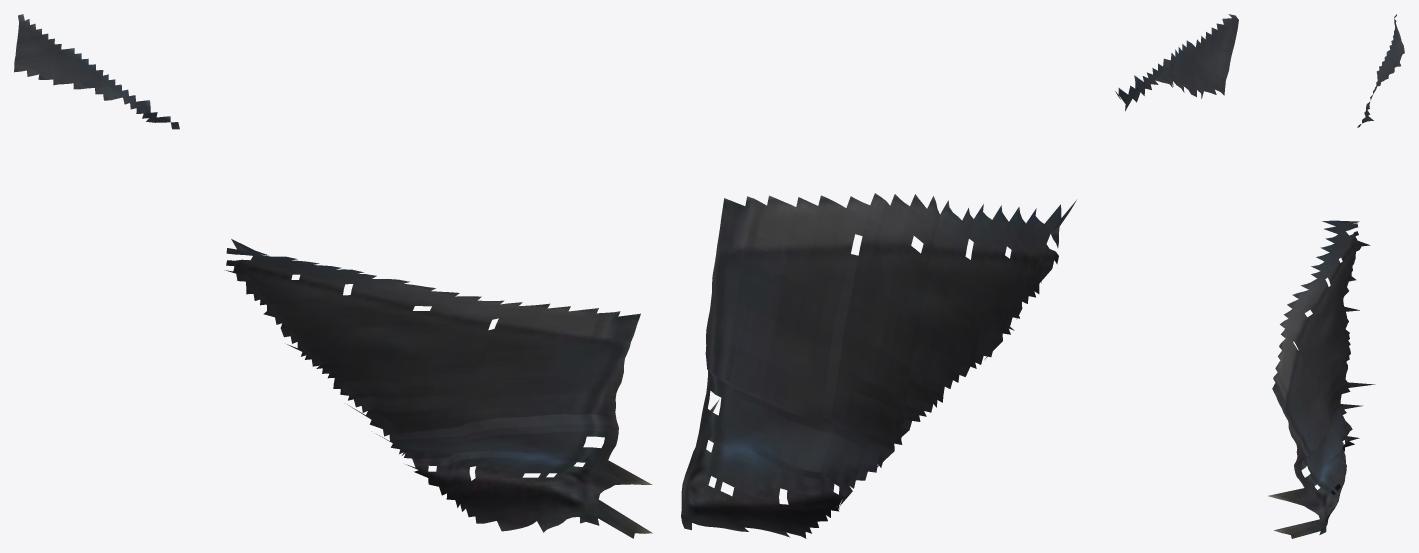
The model's file is observed-surface.glb.
The picture shows the model from 3 angles, left to right: view 1: azimuth 30°, elevation 25°; view 2: azimuth 150°, elevation 25°; view 3: azimuth 270°, elevation 25°; orthographic projection. The views are drawn at different scales.
Visible parts, largest first — view 1: geometry_0; view 2: geometry_0; view 3: geometry_0.
Boxes of the visible parts, x1=… form: geometry_0: x1=14, y1=14, x2=652, y2=538; geometry_0: x1=681, y1=14, x2=1238, y2=538; geometry_0: x1=1268, y1=14, x2=1404, y2=538.
Size of the model in its own units: 0.4448 by 0.4688 by 0.1604.
1 material, 1 textured.
